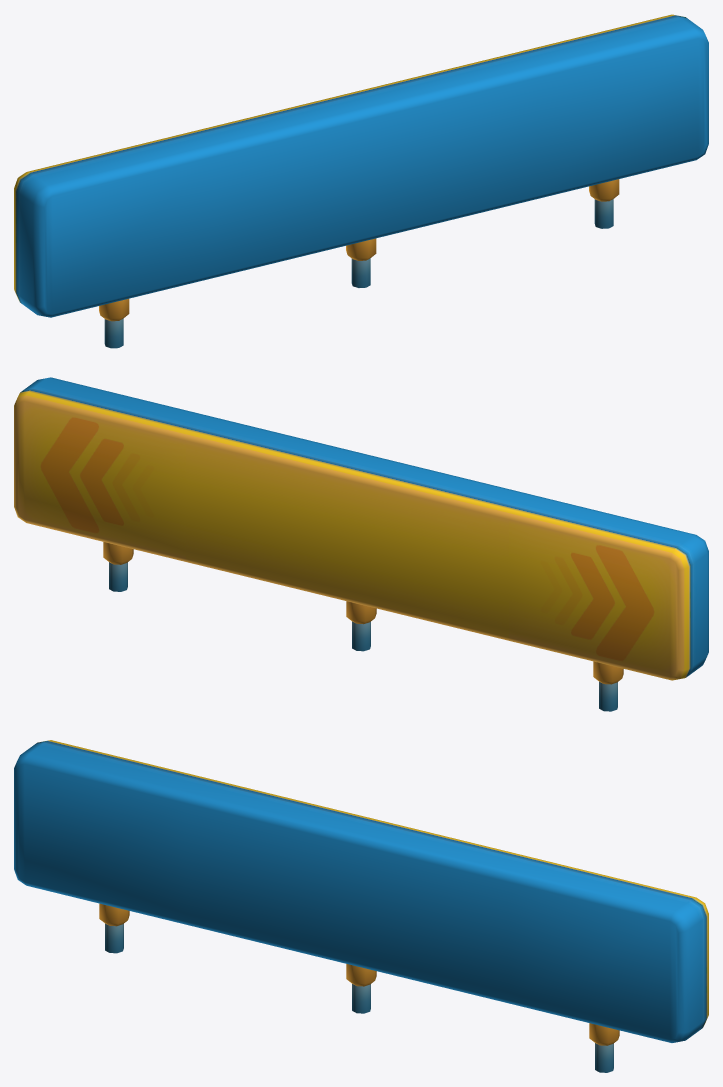
File: Toy_MovingWallUGC_A_000_1x1.glb
3 renders of one model, top to bottom at view 1: azimuth 30°, elevation 25°; view 2: azimuth 150°, elevation 25°; view 3: azimuth 330°, elevation 25°, orthographic.
Visible parts, largest first — view 1: RailObstacleLarge2; view 2: RailObstacleLarge2; view 3: RailObstacleLarge2.
Part boxes in pixels (x1,y1,x2,y2): RailObstacleLarge2: [14, 14, 708, 348]; RailObstacleLarge2: [14, 377, 708, 711]; RailObstacleLarge2: [14, 740, 708, 1072].
Size of the model in its own units: 6.44 by 1.68 by 0.4642.
1 material, 1 textured.
